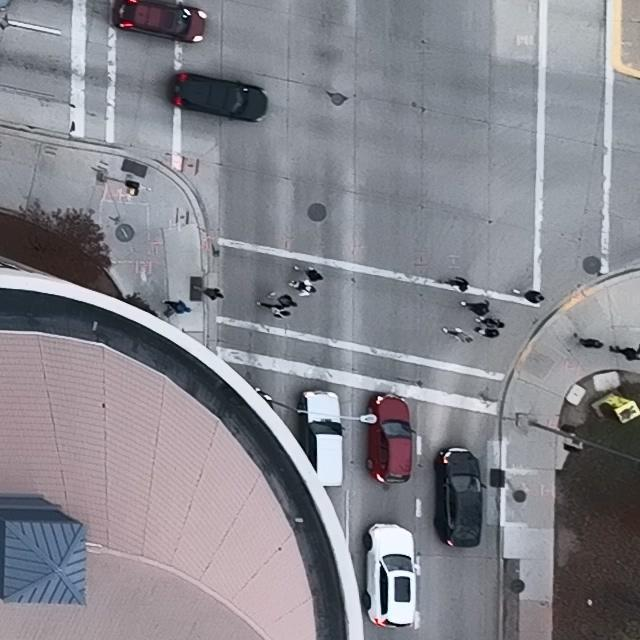car: (363, 523, 421, 628), (433, 445, 486, 548), (167, 72, 268, 123), (297, 390, 345, 485), (366, 393, 416, 484), (111, 0, 206, 43)
